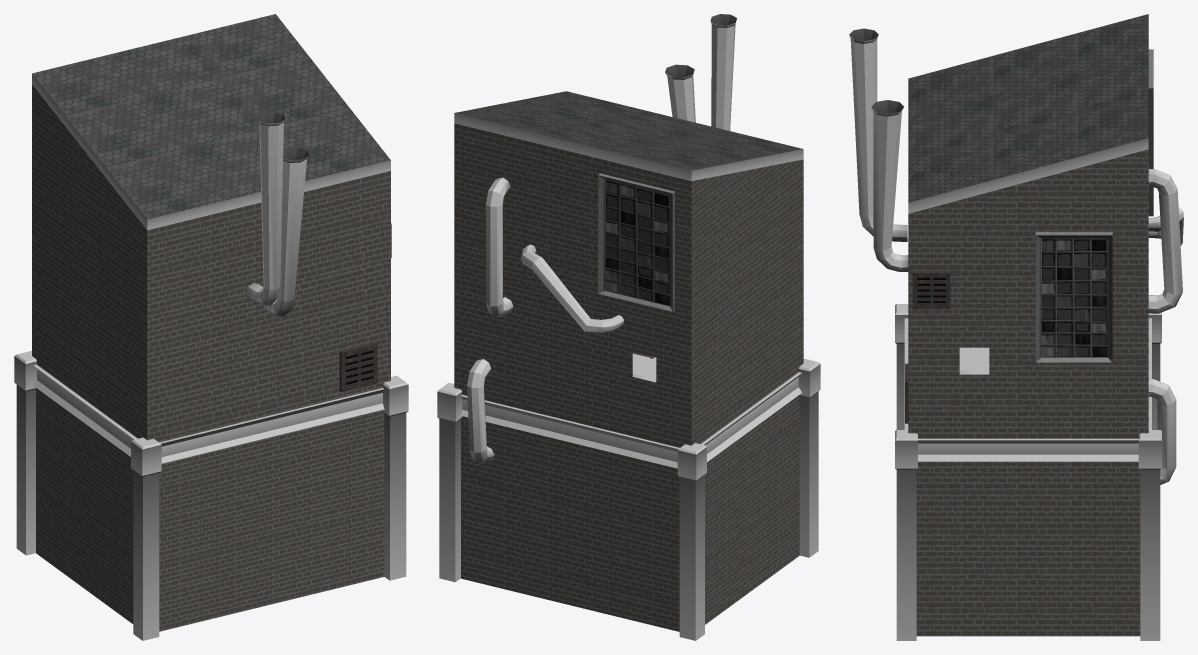
The model's file is factory_paint_l_room.fbx.
The picture shows the model from 3 angles, left to right: view 1: azimuth 30°, elevation 25°; view 2: azimuth 150°, elevation 25°; view 3: azimuth 270°, elevation 25°; orthographic projection. The views are drawn at different scales.
Visible parts, largest first — view 1: Building, Cube, Tubes, VentCovers; view 2: Building, Cube, Plane.001, Vert.004, Tubes, Floor; view 3: Building, Cube, Window, Tubes, Vert.004, VentCovers, Plane.001, Floor.
Boxes of the visible parts, x1,y1,x2,y2 form: Building: (32, 14, 390, 631); Cube: (14, 350, 408, 640); Tubes: (245, 112, 308, 316); VentCovers: (339, 223, 391, 392); Building: (454, 91, 803, 631); Cube: (437, 358, 820, 640); Plane.001: (598, 173, 674, 312); Vert.004: (467, 177, 623, 463); Tubes: (665, 14, 736, 130); Floor: (632, 353, 656, 382); Building: (904, 14, 1151, 636); Cube: (895, 304, 1161, 640); Window: (1035, 232, 1112, 362); Tubes: (849, 28, 908, 271); Vert.004: (1148, 169, 1183, 484); VentCovers: (905, 271, 950, 423); Plane.001: (1148, 49, 1153, 216); Floor: (959, 347, 989, 374).
Bounding box in the file's own units: 4909 × 8940 × 5121.
